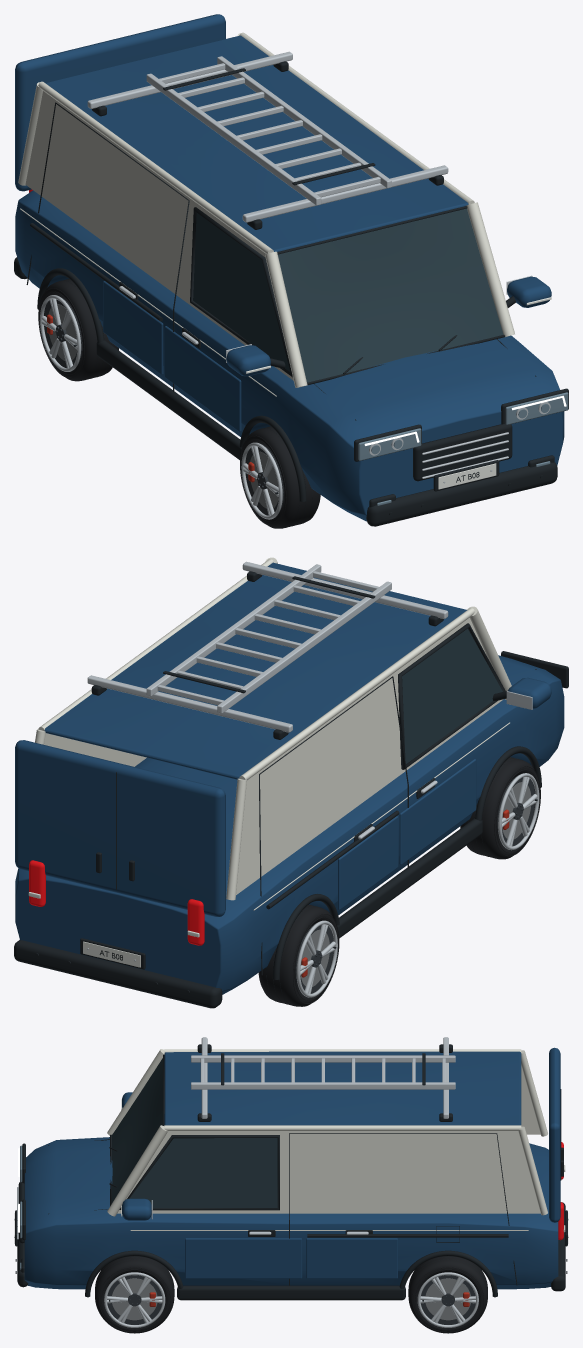
Rendered from utility-van.glb.
3 views of the same model, one above another, from view 1: azimuth 30°, elevation 25°; view 2: azimuth 150°, elevation 25°; view 3: azimuth 270°, elevation 25° (orthographic). The views are drawn at different scales.
Parts seen in each view (by area): view 1: Utility van continuous sculpted body.002, Utility van gently crowned roof.002, Utility van curved laminated windscreen.002, Utility van solid cargo side.004, Utility van front door glass.005, Utility van rear cargo doors.002, Utility van front lower valance.002, Utility van pressed door skin.010, Utility van pressed door skin.009, Utility van rocker sill.005, Utility van front radiator grille.002, Utility van pneumatic tyre.009 (+23 smaller); view 2: Utility van continuous sculpted body.002, Utility van gently crowned roof.002, Utility van rear cargo doors.002, Utility van solid cargo side.004, Utility van front door glass.005, Utility van rear bumper.002, Utility van pressed door skin.010, Utility van pressed door skin.009, Utility van rocker sill.005, Utility van pneumatic tyre.010, Utility van pneumatic tyre.009, Utility van roof side rail.005 (+22 smaller); view 3: Utility van continuous sculpted body.002, Utility van gently crowned roof.002, Utility van solid cargo side.005, Utility van front door glass.004, Utility van pressed door skin.008, Utility van pressed door skin.011, Utility van rocker sill.004, Utility van curved laminated windscreen.002, Utility van pneumatic tyre.008, Utility van pneumatic tyre.011, Utility van roof side rail.004, Utility van ladder stile.004 (+22 smaller).
Boxes of the visible parts, bbox=[...] form: Utility van continuous sculpted body.002: bbox=[15, 190, 564, 521]; Utility van gently crowned roof.002: bbox=[45, 35, 468, 251]; Utility van curved laminated windscreen.002: bbox=[278, 208, 503, 382]; Utility van solid cargo side.004: bbox=[25, 91, 293, 380]; Utility van front door glass.005: bbox=[193, 213, 290, 372]; Utility van rear cargo doors.002: bbox=[15, 14, 225, 191]; Utility van front lower valance.002: bbox=[366, 462, 557, 526]; Utility van pressed door skin.010: bbox=[164, 326, 241, 431]; Utility van pressed door skin.009: bbox=[103, 281, 163, 374]; Utility van rocker sill.005: bbox=[96, 340, 241, 459]; Utility van front radiator grille.002: bbox=[413, 423, 512, 481]; Utility van pneumatic tyre.009: bbox=[240, 426, 320, 528]; Utility van continuous sculpted body.002: bbox=[15, 655, 564, 994]; Utility van gently crowned roof.002: bbox=[44, 562, 466, 779]; Utility van rear cargo doors.002: bbox=[15, 740, 225, 916]; Utility van solid cargo side.004: bbox=[236, 617, 503, 894]; Utility van front door glass.005: bbox=[402, 628, 502, 763]; Utility van rear bumper.002: bbox=[14, 940, 222, 1008]; Utility van pressed door skin.010: bbox=[399, 759, 476, 864]; Utility van pressed door skin.009: bbox=[337, 816, 398, 910]; Utility van rocker sill.005: bbox=[337, 818, 482, 938]; Utility van pneumatic tyre.010: bbox=[258, 904, 338, 1006]; Utility van pneumatic tyre.009: bbox=[460, 757, 540, 859]; Utility van roof side rail.005: bbox=[239, 608, 474, 780]; Utility van continuous sculpted body.002: bbox=[24, 1137, 558, 1289]; Utility van gently crowned roof.002: bbox=[164, 1051, 521, 1125]; Utility van solid cargo side.005: bbox=[117, 1131, 540, 1213]; Utility van front door glass.004: bbox=[130, 1138, 277, 1207]; Utility van pressed door skin.008: bbox=[185, 1238, 302, 1278]; Utility van pressed door skin.011: bbox=[306, 1238, 397, 1278]; Utility van rocker sill.004: bbox=[177, 1285, 405, 1300]; Utility van curved laminated windscreen.002: bbox=[112, 1058, 162, 1202]; Utility van pneumatic tyre.008: bbox=[408, 1256, 487, 1333]; Utility van pneumatic tyre.011: bbox=[95, 1256, 174, 1333]; Utility van roof side rail.004: bbox=[164, 1125, 521, 1130]; Utility van ladder stile.004: bbox=[191, 1082, 455, 1089].
Bounding box in the file's own units: 2.65 × 2.28 × 5.24.
